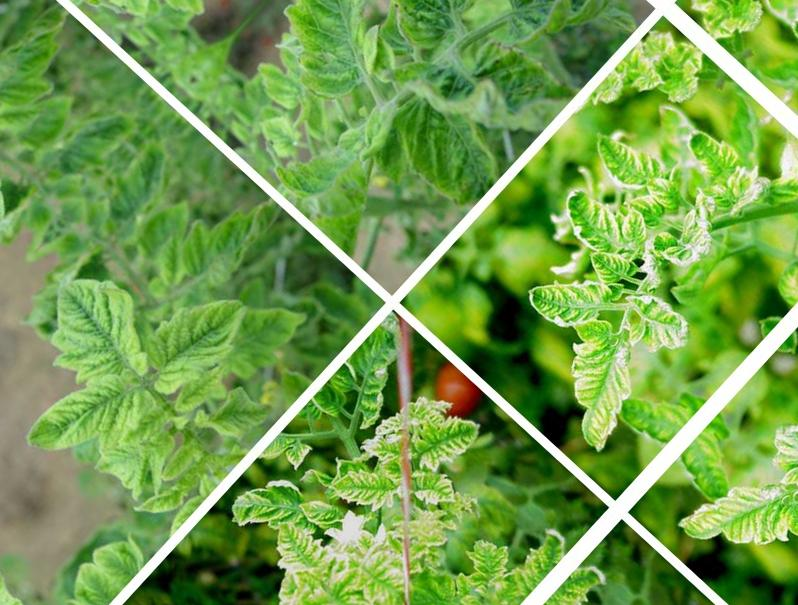Tomato leaf yellow virus: (22, 250, 184, 410), (526, 299, 684, 459), (354, 73, 513, 230), (449, 0, 637, 101), (12, 350, 145, 486), (133, 257, 263, 391), (251, 0, 411, 103), (597, 275, 720, 397), (547, 164, 662, 278), (515, 245, 629, 359), (346, 0, 518, 72), (574, 112, 669, 204), (406, 399, 491, 486), (672, 119, 750, 195), (325, 452, 401, 527), (451, 524, 524, 596), (260, 518, 333, 590), (580, 233, 645, 298), (394, 553, 475, 605), (302, 566, 394, 605), (292, 483, 352, 541), (636, 164, 692, 219)
